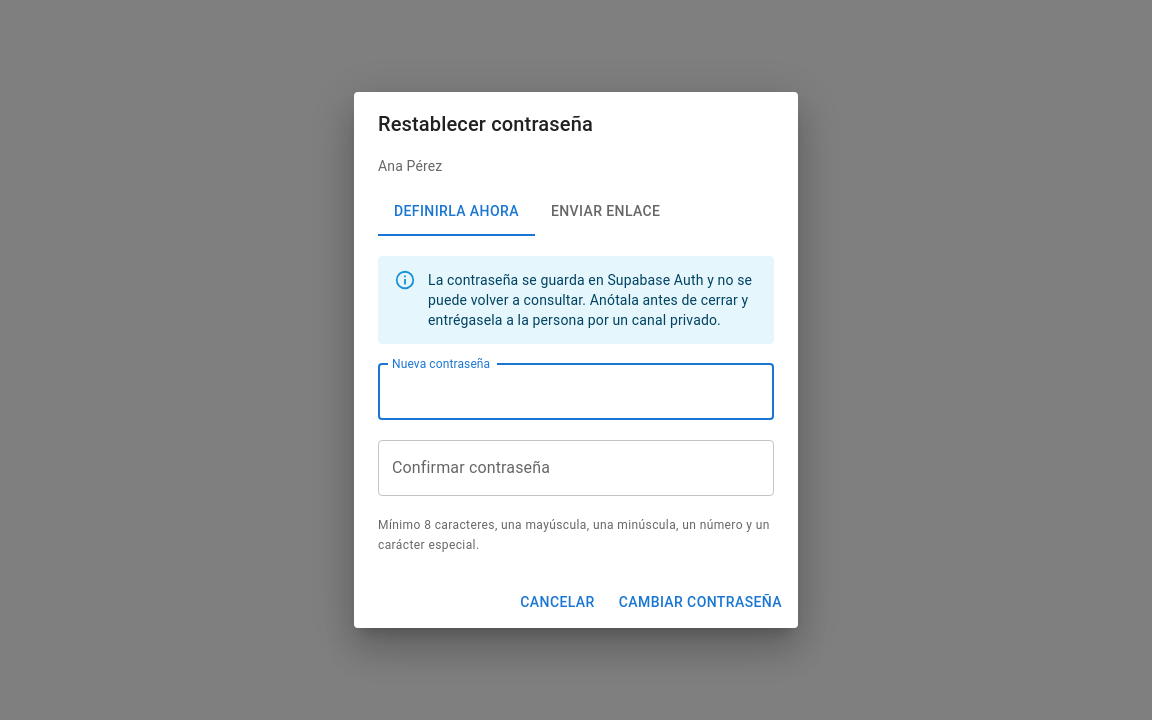
DialogoContrasena › sin correo registrado, la vía del correo no se ofrece
This screenshot has width=1152, height=720.
What coordinates should you click on to do the following:
click the tab "Enviar enlace"
I would click on:
 (606, 212)
Its box is [535,188,676,236].
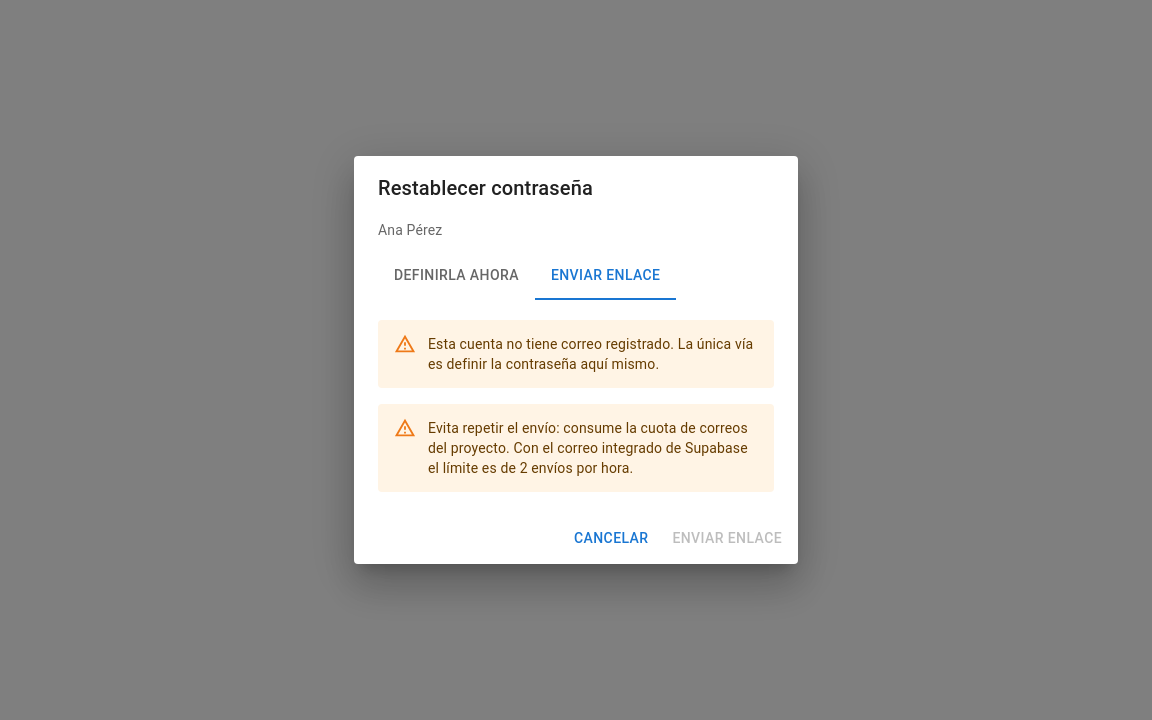
Expected: the button "Enviar enlace" is disabled, [664,520,790,556]
Expected: the text "no tiene correo registrado" is shown, [428,336,753,372]
